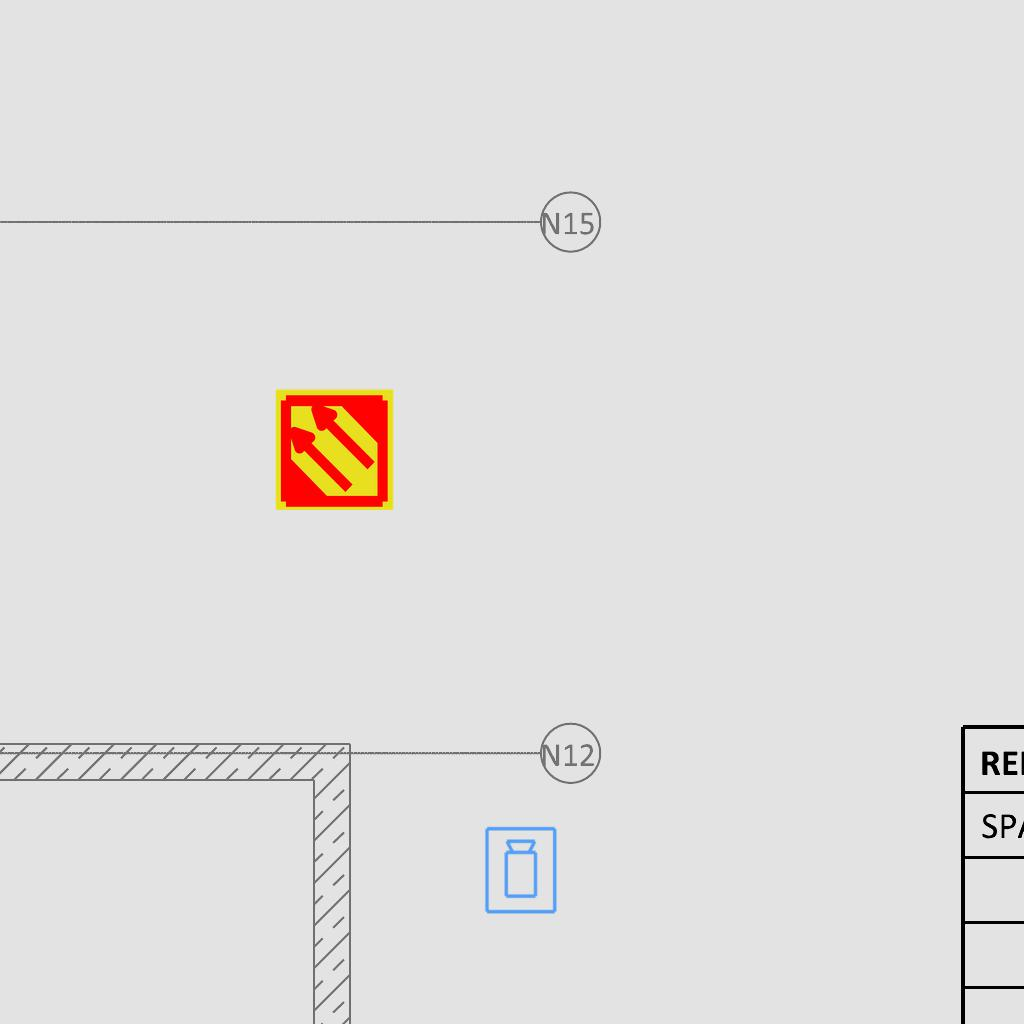ASR_Ansaugrauchmelder: (272, 387, 397, 512)
KFO_Kamera_mit_Festobjektiv: (483, 825, 560, 916)
